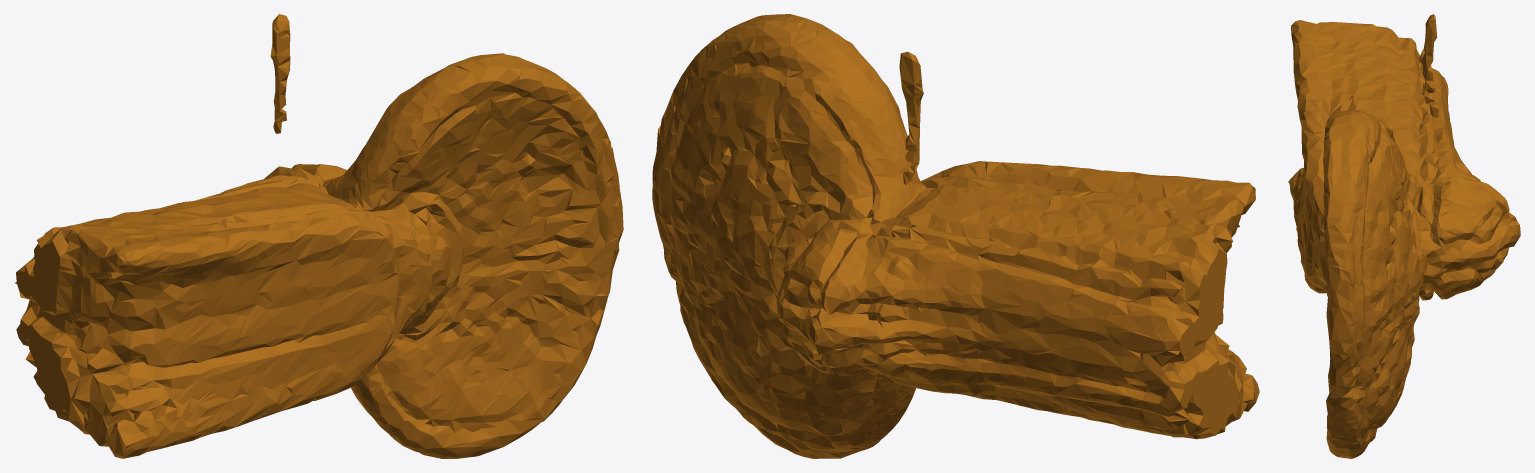
The model's file is improved.glb.
3 renders of one model, left to right at view 1: azimuth 30°, elevation 25°; view 2: azimuth 150°, elevation 25°; view 3: azimuth 270°, elevation 25°, orthographic. The views are drawn at different scales.
Visible parts, largest first — view 1: world; view 2: world; view 3: world.
Part boxes in pixels (bbox=[...]): world: bbox=[15, 14, 623, 458]; world: bbox=[652, 14, 1259, 458]; world: bbox=[1288, 14, 1520, 458].
Bounding box in the file's own units: 1.6 × 1.24 × 0.6936.
